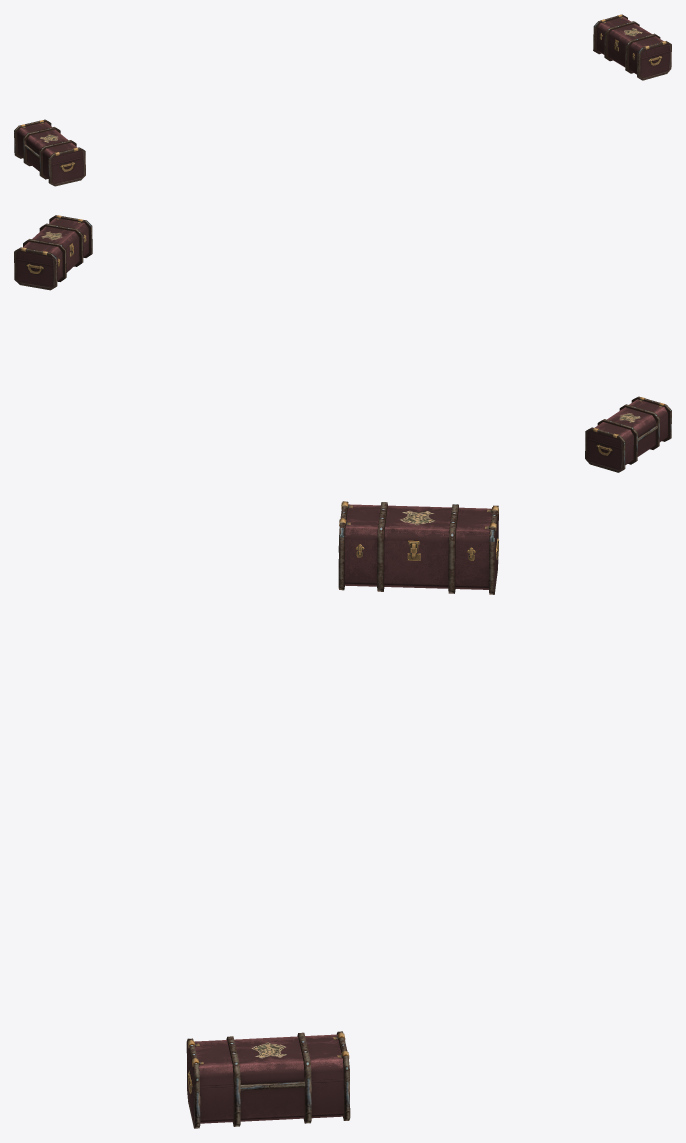
File: cofres.fbx
3 views of the same model, one above another, from view 1: azimuth 30°, elevation 25°; view 2: azimuth 150°, elevation 25°; view 3: azimuth 270°, elevation 25° (orthographic). The views are drawn at different scales.
Visible parts, largest first — view 1: hogwartstrunks_mesh.001, hogwartstrunks_mesh; view 2: hogwartstrunks_mesh, hogwartstrunks_mesh.001; view 3: hogwartstrunks_mesh.001, hogwartstrunks_mesh.
Boxes of the visible parts, x1,y1,x2,y2 form: hogwartstrunks_mesh.001: [593, 14, 671, 80]; hogwartstrunks_mesh: [14, 119, 85, 186]; hogwartstrunks_mesh: [585, 396, 671, 472]; hogwartstrunks_mesh.001: [14, 215, 92, 290]; hogwartstrunks_mesh.001: [186, 1031, 350, 1128]; hogwartstrunks_mesh: [338, 501, 499, 594].
Bounding box in the file's own units: 11.71 × 0.6481 × 2.71.
Materials: 1 (1 with a texture image).
